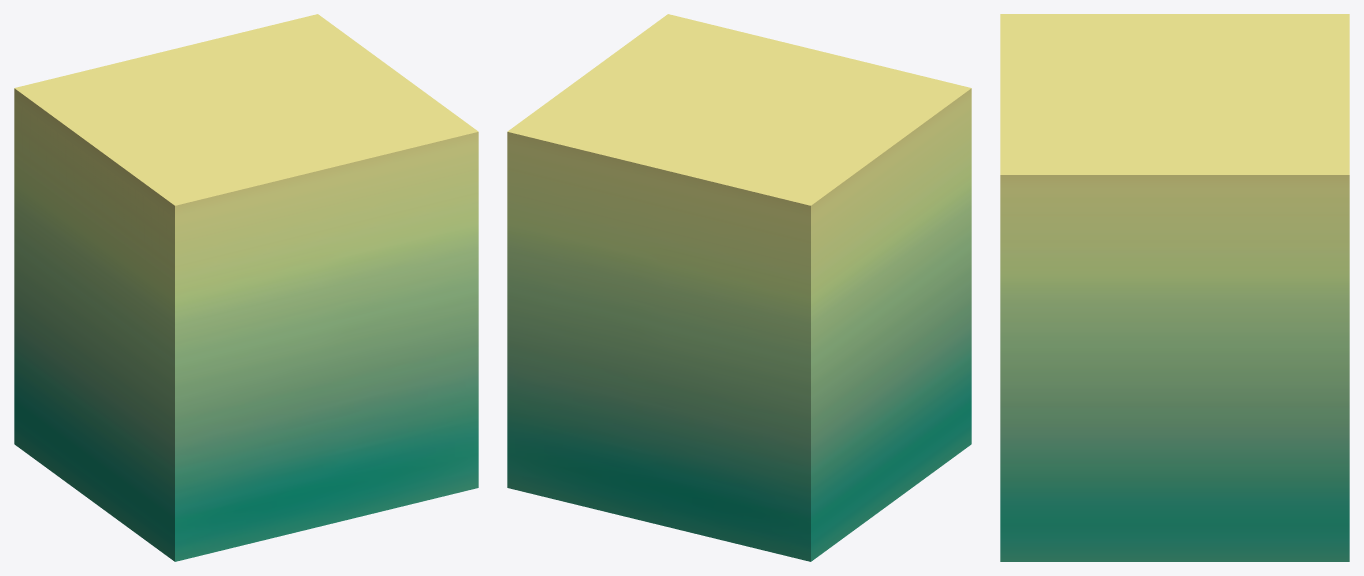
The picture shows the model from 3 angles, left to right: view 1: azimuth 30°, elevation 25°; view 2: azimuth 150°, elevation 25°; view 3: azimuth 270°, elevation 25°; orthographic projection. The views are drawn at different scales.
Parts seen in each view (by area): view 1: Cube.020_Color_Pallete_0.008; view 2: Cube.020_Color_Pallete_0.008; view 3: Cube.020_Color_Pallete_0.008.
Boxes of the visible parts, x1,y1,x2,y2 form: Cube.020_Color_Pallete_0.008: (14,14,478,561); Cube.020_Color_Pallete_0.008: (507,14,971,561); Cube.020_Color_Pallete_0.008: (1000,14,1349,561).
Bounding box in the file's own units: 129 × 145 × 119.
